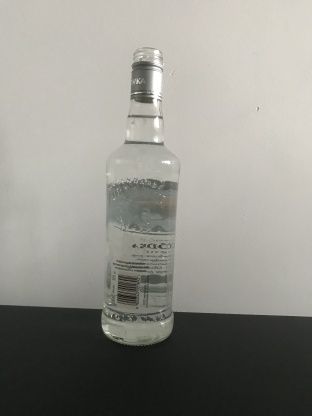nakretka: (128, 45, 165, 104)
